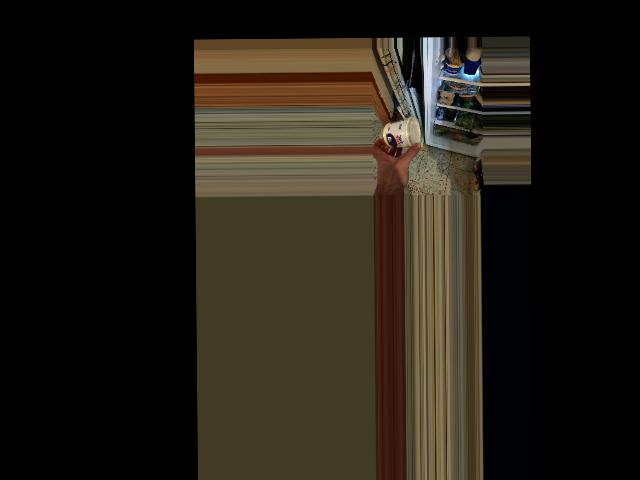cotage: (382, 115, 421, 151)
